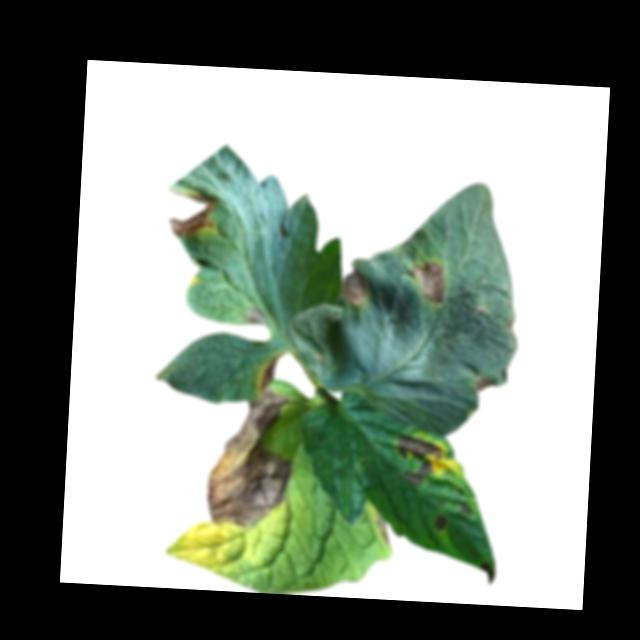Early_blight: (204, 385, 288, 528), (393, 433, 445, 488), (165, 186, 221, 237), (409, 259, 450, 304), (339, 268, 372, 306), (259, 352, 283, 393), (375, 510, 391, 547), (472, 375, 499, 391), (479, 560, 496, 585), (432, 513, 449, 531), (247, 308, 266, 323), (461, 499, 475, 512)
